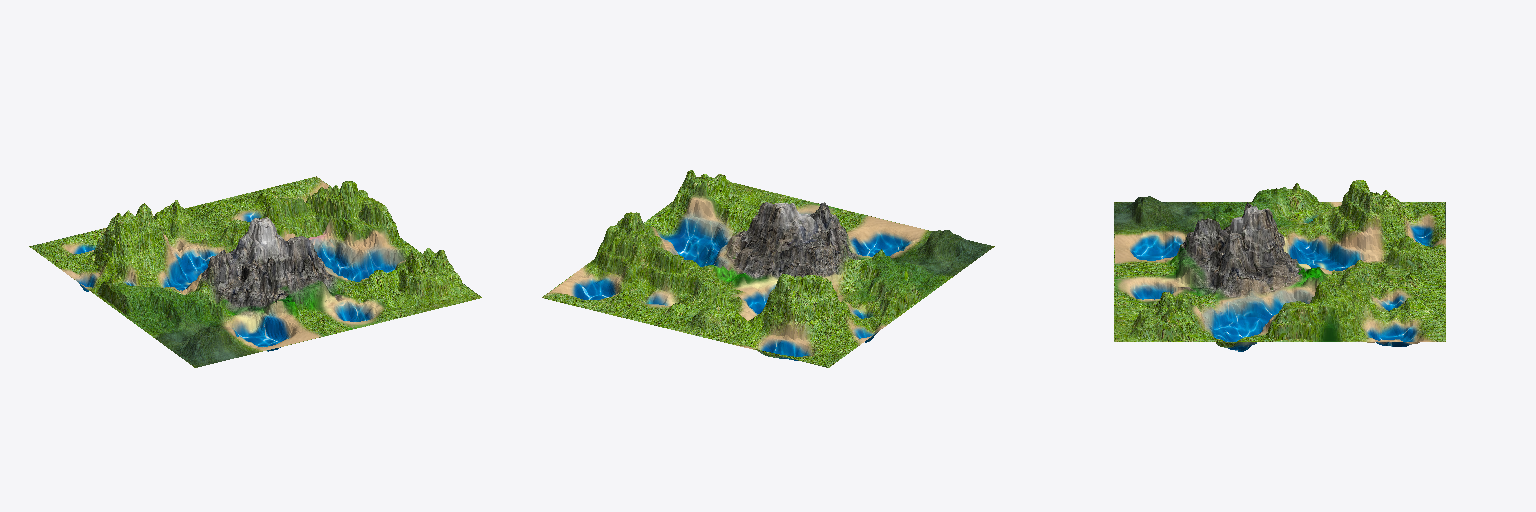
3 views of the same model, side by side, from view 1: azimuth 30°, elevation 25°; view 2: azimuth 150°, elevation 25°; view 3: azimuth 270°, elevation 25° (orthographic).
Visible parts, largest first — view 1: Landscape.001; view 2: Landscape.001; view 3: Landscape.001.
Boxes of the visible parts, <box> form: Landscape.001: <box>29,176,481,367</box>; Landscape.001: <box>542,170,994,367</box>; Landscape.001: <box>1114,180,1445,351</box>.
Bounding box in the file's own units: 10 × 3.03 × 10.
1 materials, 1 textured.